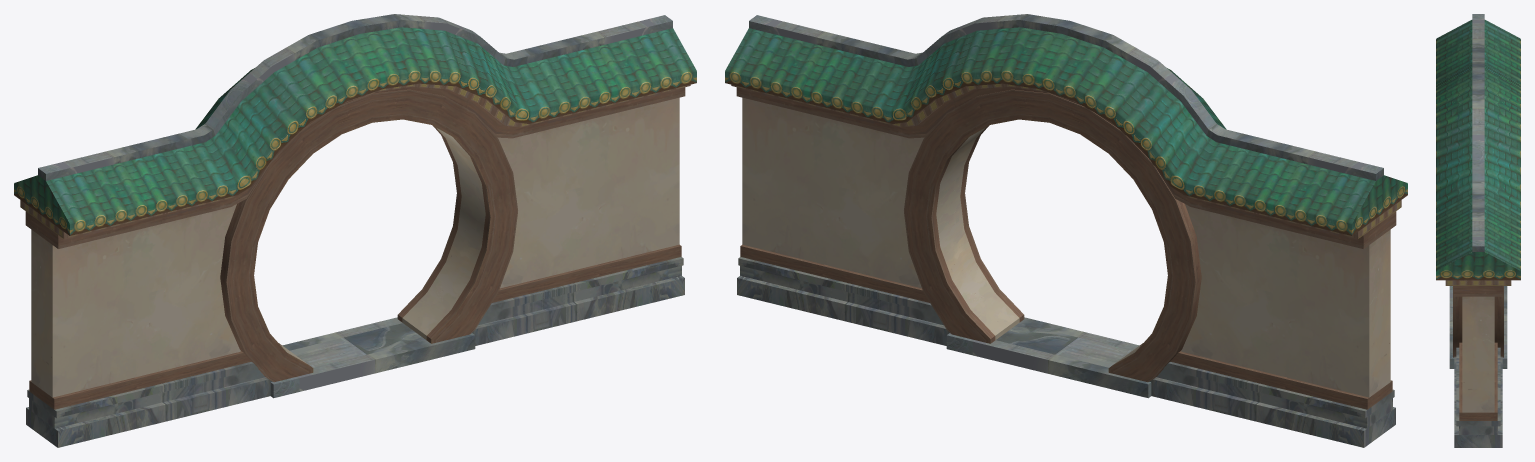
File: Homeworld_Exterior_Ly_Build_Door_02_Lod0.fbx
3 views of the same model, side by side, from view 1: azimuth 30°, elevation 25°; view 2: azimuth 150°, elevation 25°; view 3: azimuth 270°, elevation 25° (orthographic). The views are drawn at different scales.
Parts seen in each view (by area): view 1: Homeworld_Exterior_Ly_Build_Door_02_Lod0; view 2: Homeworld_Exterior_Ly_Build_Door_02_Lod0; view 3: Homeworld_Exterior_Ly_Build_Door_02_Lod0.
Part boxes in pixels (x1,y1,x2,y2): Homeworld_Exterior_Ly_Build_Door_02_Lod0: (14, 14, 696, 447); Homeworld_Exterior_Ly_Build_Door_02_Lod0: (725, 14, 1407, 447); Homeworld_Exterior_Ly_Build_Door_02_Lod0: (1436, 14, 1520, 447).
Bounding box in the file's own units: 10 × 5.12 × 1.54.
